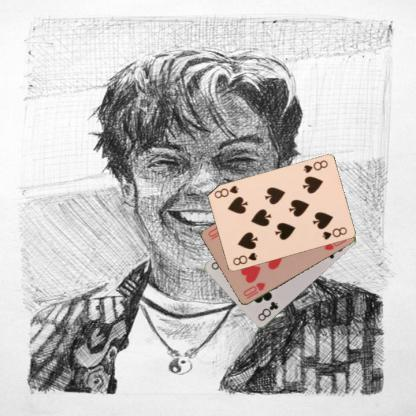10h: (240, 280, 266, 300)
8c: (255, 299, 280, 322)
8s: (230, 250, 258, 267), (300, 158, 329, 174)
